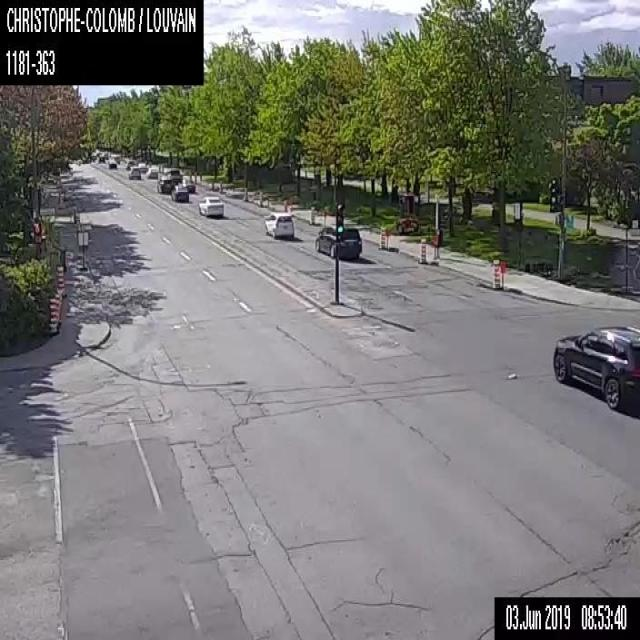construction: (396, 190, 418, 234), (46, 295, 56, 335), (77, 231, 87, 269), (56, 264, 65, 298), (53, 290, 61, 323), (493, 259, 500, 289), (418, 237, 426, 263), (378, 224, 386, 247), (257, 188, 262, 205), (217, 179, 222, 193), (311, 207, 314, 225), (285, 199, 288, 212)
vehicle: (551, 323, 639, 408), (314, 224, 364, 259), (264, 209, 294, 239), (197, 192, 224, 217), (165, 165, 182, 183), (171, 183, 188, 201), (156, 174, 172, 192), (181, 177, 195, 191), (126, 165, 140, 179), (146, 166, 158, 178), (123, 158, 134, 169), (107, 157, 117, 169), (137, 160, 146, 171)
